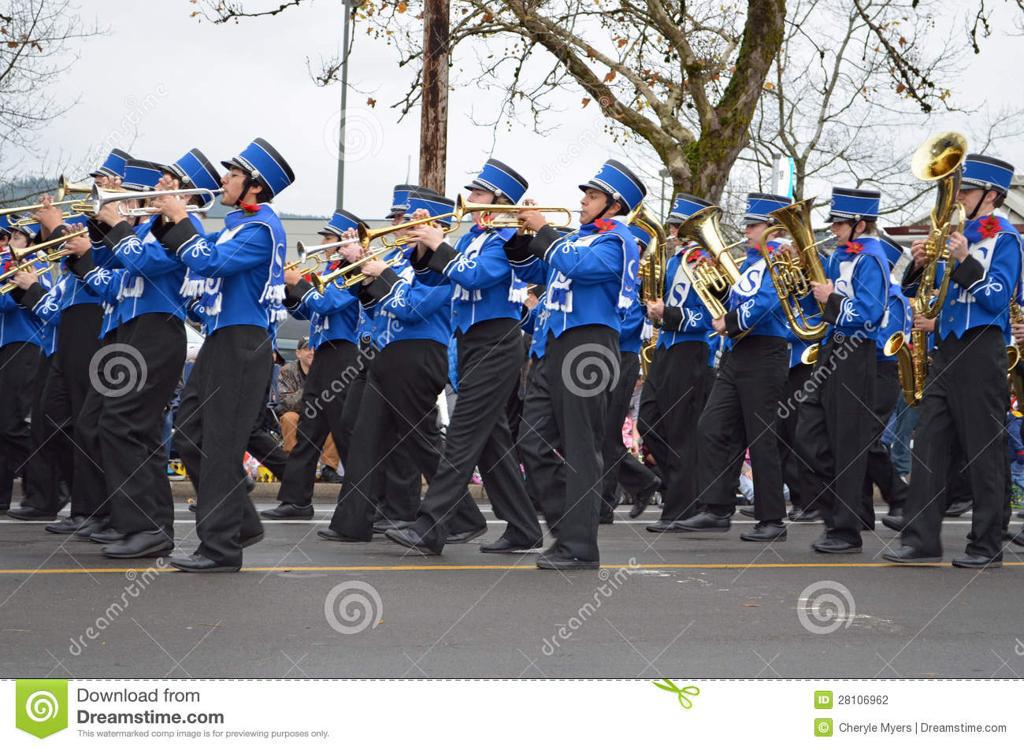face: (221, 162, 255, 204), (958, 180, 988, 219), (151, 174, 182, 210), (580, 189, 611, 224), (468, 189, 498, 223), (744, 216, 772, 248), (831, 213, 857, 246), (121, 191, 145, 226), (670, 215, 694, 244), (405, 219, 429, 247), (95, 176, 117, 205), (393, 213, 415, 241), (323, 233, 341, 259), (301, 345, 322, 366), (11, 231, 28, 254)
